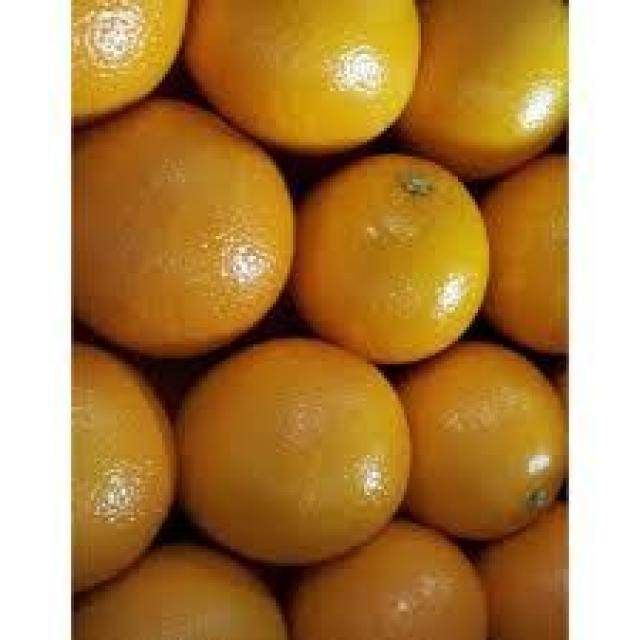Good_Orange: (71, 94, 299, 361), (174, 338, 415, 572), (284, 151, 492, 370), (407, 341, 569, 543)
